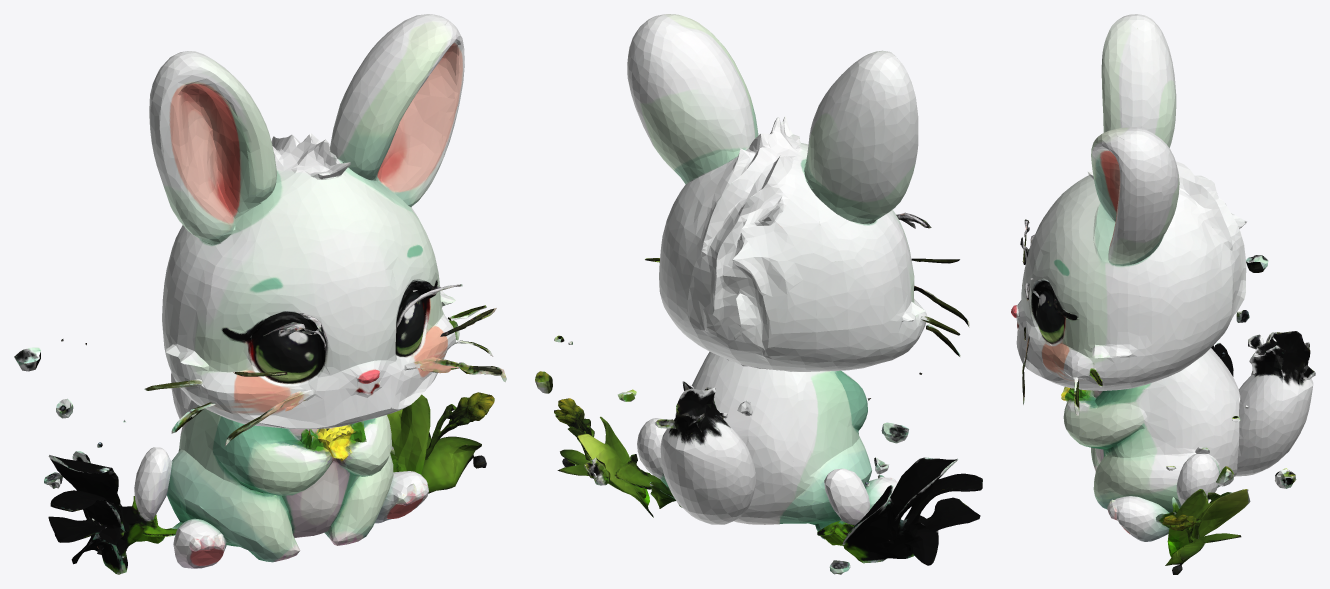
Rendered from rabbit.glb.
3 views of the same model, side by side, from view 1: azimuth 30°, elevation 25°; view 2: azimuth 150°, elevation 25°; view 3: azimuth 270°, elevation 25° (orthographic). The views are drawn at different scales.
Visible parts, largest first — view 1: world; view 2: world; view 3: world.
Part boxes in pixels (<box>): world: <box>14,14,506,574</box>; world: <box>535,14,982,574</box>; world: <box>1011,14,1315,574</box>.
Bounding box in the file's own units: 0.8908 × 0.999 × 0.618.
1 material, 1 textured.
